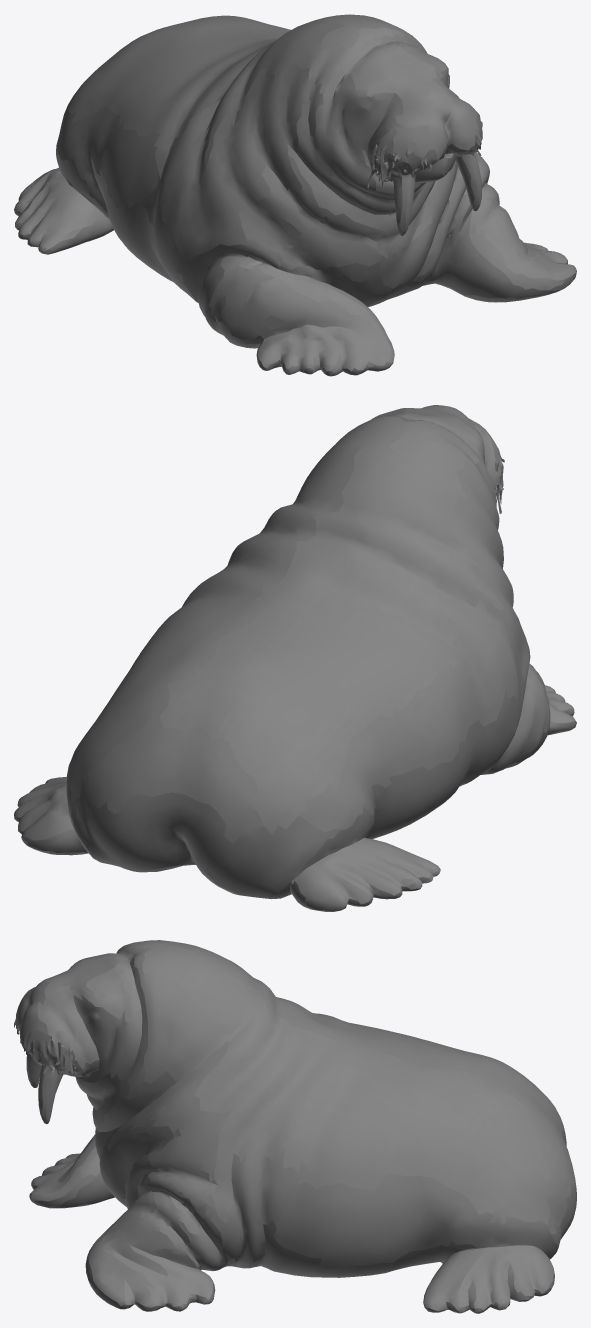
The model's file is completion_walrus_0.glb.
3 renders of one model, top to bottom at view 1: azimuth 30°, elevation 25°; view 2: azimuth 150°, elevation 25°; view 3: azimuth 270°, elevation 25°, orthographic. The views are drawn at different scales.
Parts seen in each view (by area): view 1: geometry_0; view 2: geometry_0; view 3: geometry_0.
Part boxes in pixels (x1,y1,x2,y2): geometry_0: (14,14,576,376); geometry_0: (14,405,576,911); geometry_0: (14,940,576,1313).
Size of the model in its own units: 0.7372 by 0.5491 by 0.9896.
Materials: 1 (1 with a texture image).
